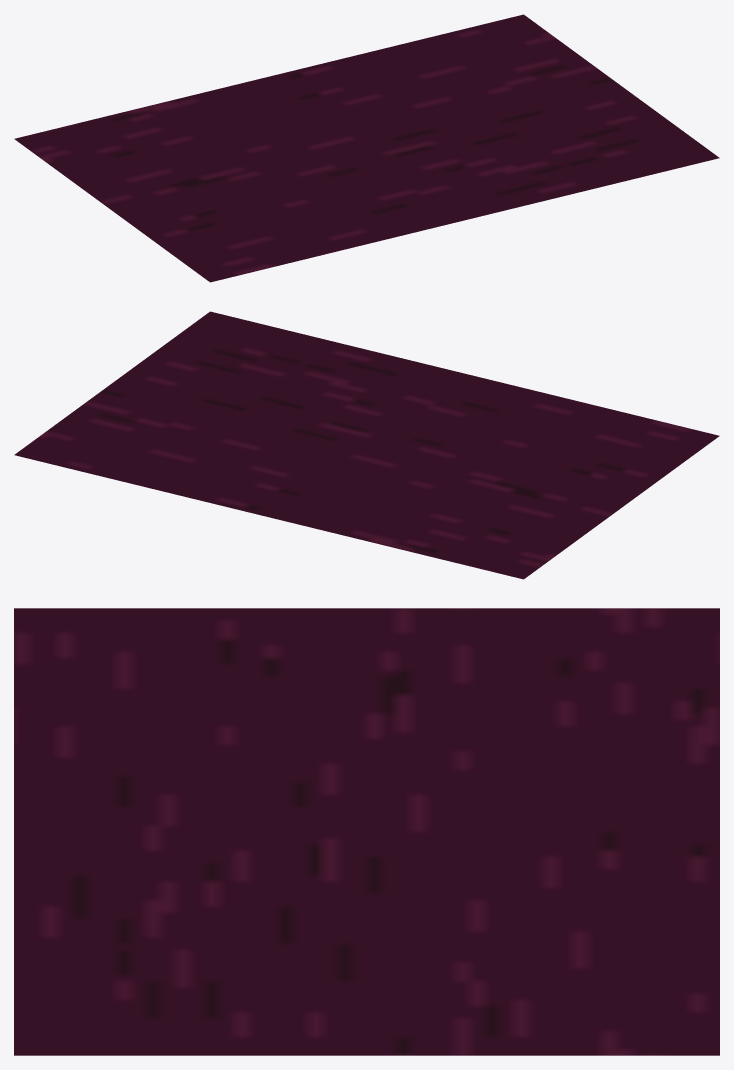
File: water.glb
The picture shows the model from 3 angles, top to bottom: view 1: azimuth 30°, elevation 25°; view 2: azimuth 150°, elevation 25°; view 3: azimuth 270°, elevation 25°; orthographic projection. The views are drawn at different scales.
Parts seen in each view (by area): view 1: Water; view 2: Water; view 3: Water.
Boxes of the visible parts, x1,y1,x2,y2 form: Water: (14, 14, 719, 282); Water: (14, 311, 719, 579); Water: (14, 608, 719, 1055).
Bounding box in the file's own units: 18 × 0 × 12.
Materials: 1 (1 with a texture image).
